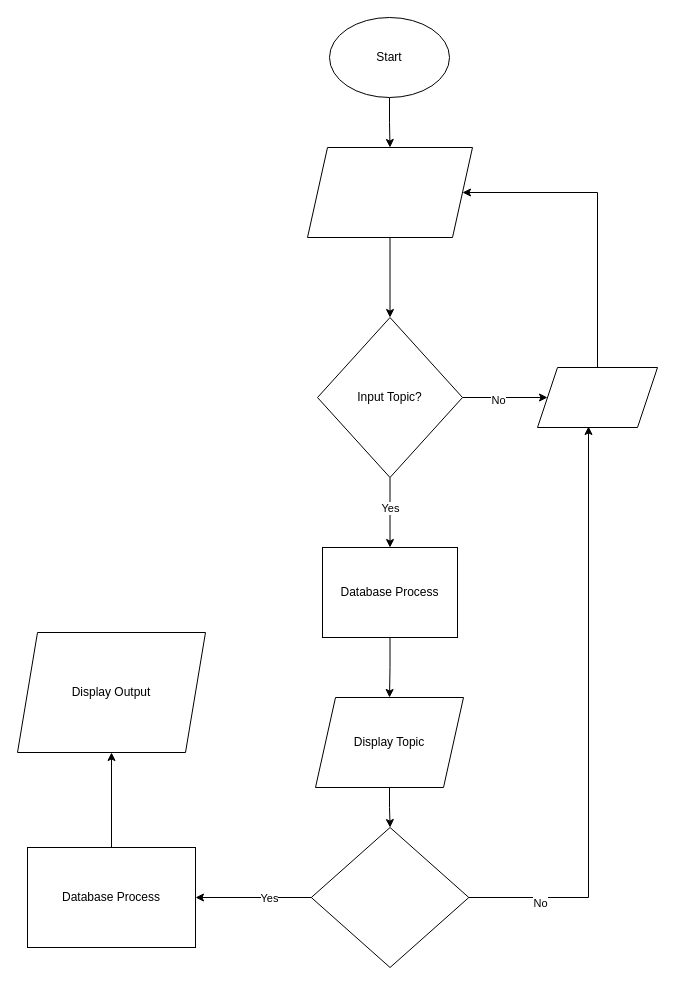
Image size: 675x985. Some labels were removed from this diagram. Each missing label, with the centre of its shape:
Insert Concept and Description?: the point at 389,897
View Mode: the point at 597,397
Welcome to Knowledge Management System: the point at 389,192
